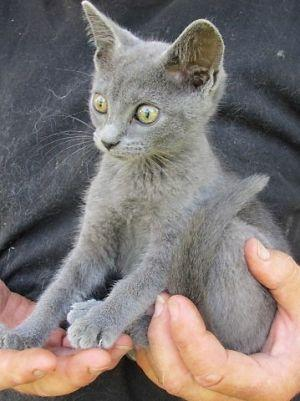rblue: (70, 1, 235, 174)
